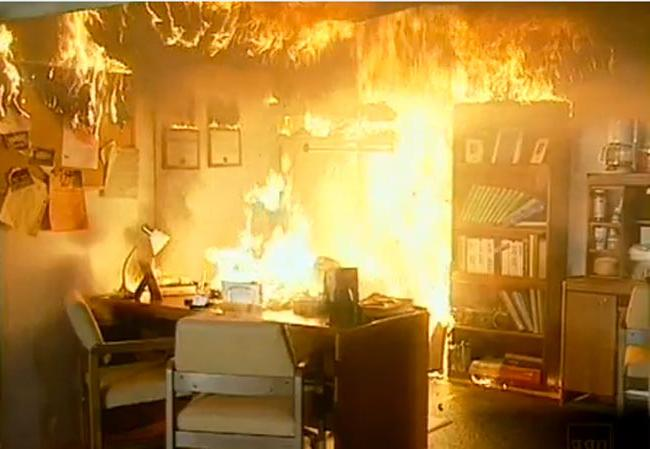fire: (152, 4, 586, 320), (42, 11, 145, 107), (1, 26, 33, 115)
